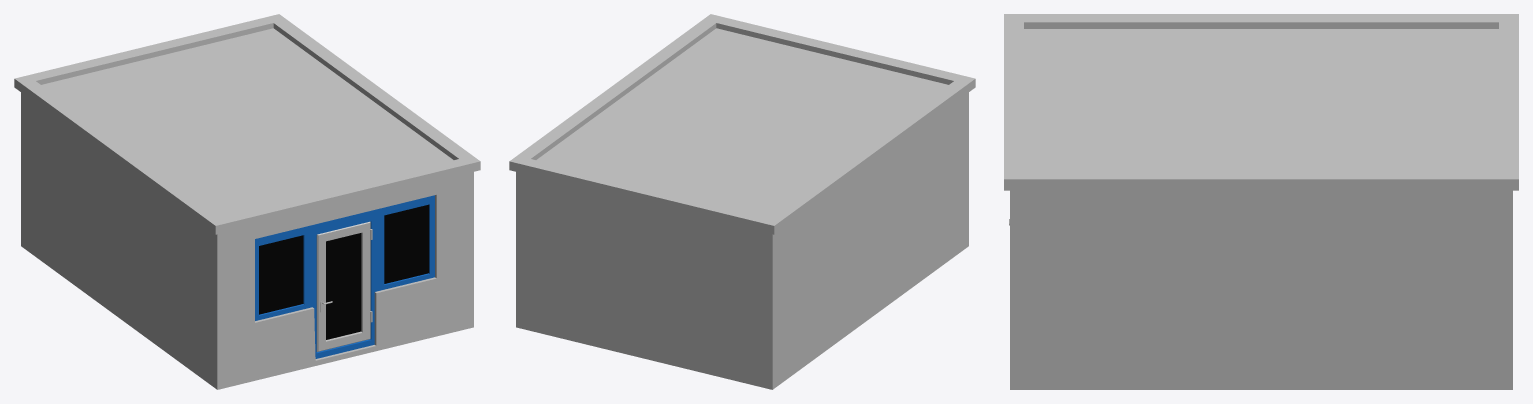
File: SM_shop_1.fbx
3 views of the same model, side by side, from view 1: azimuth 30°, elevation 25°; view 2: azimuth 150°, elevation 25°; view 3: azimuth 270°, elevation 25° (orthographic). The views are drawn at different scales.
Parts seen in each view (by area): view 1: Cube_22, Cylinder_9; view 2: Cube_22; view 3: Cube_22.
Boxes of the visible parts, x1,y1,x2,y2 form: Cube_22: (14, 14, 480, 389); Cylinder_9: (316, 221, 372, 351); Cube_22: (509, 14, 975, 389); Cube_22: (1004, 14, 1518, 389).
Size of the model in its own units: 527 by 317 by 693.
